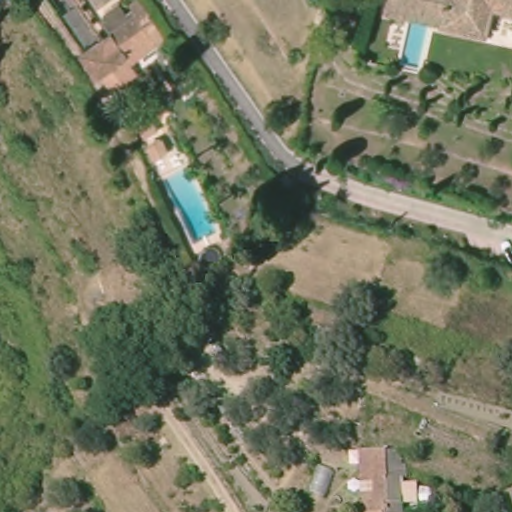pool: (157, 168, 220, 243), (398, 21, 429, 72)
